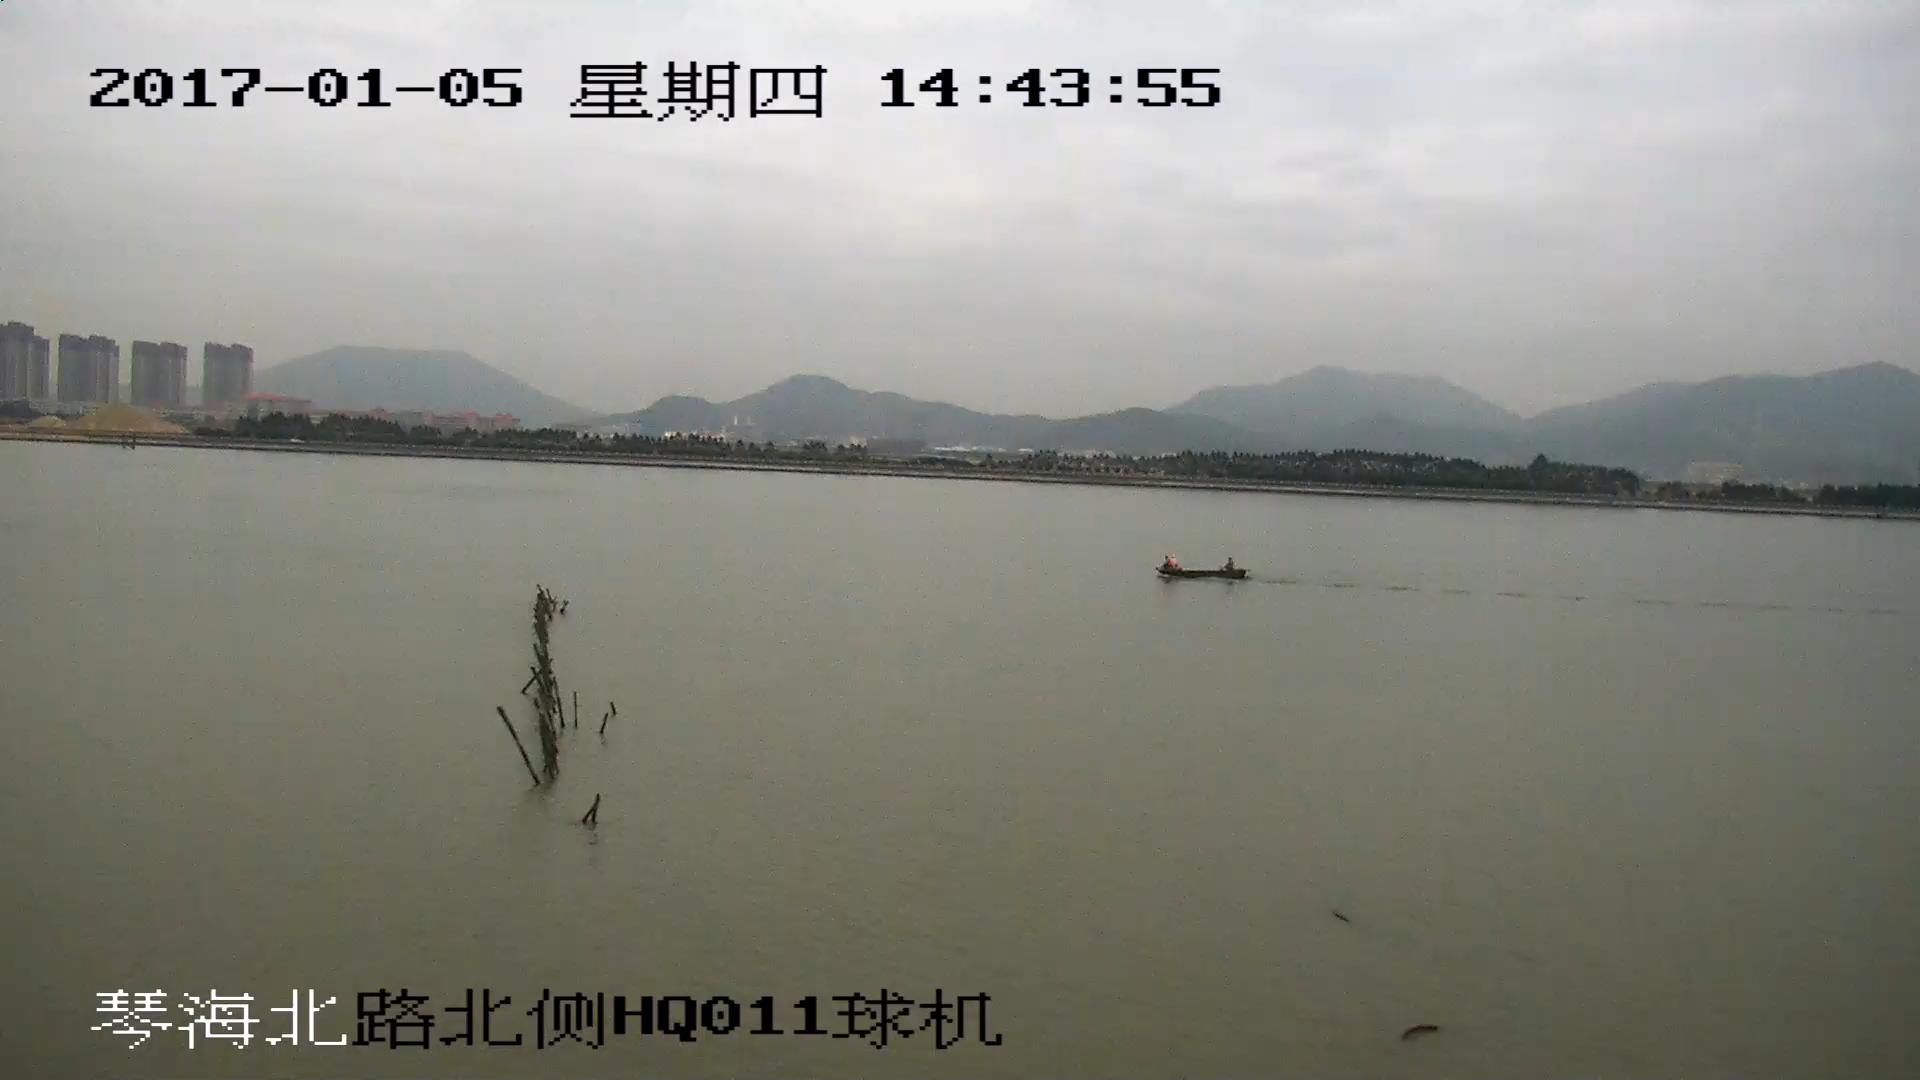fishing boat: (1156, 553, 1243, 584)
